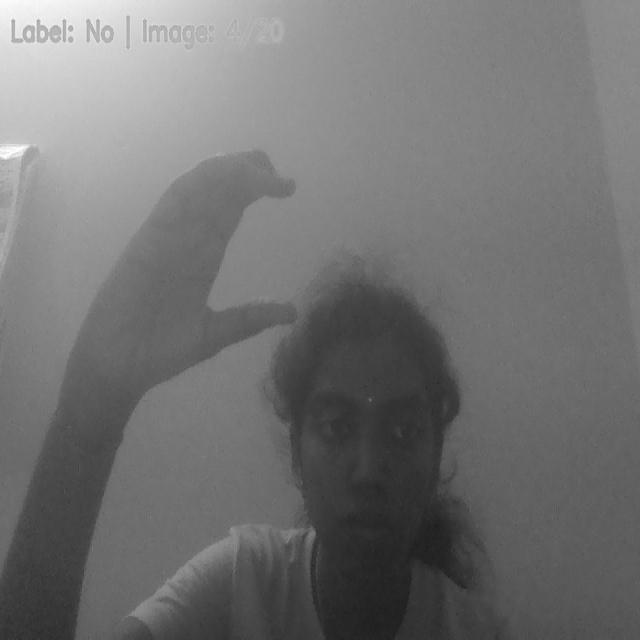No: (56, 139, 301, 442)
